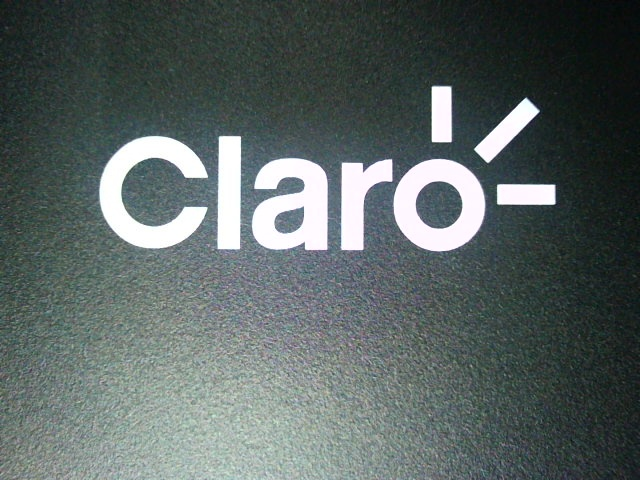BC_Claor: (87, 86, 582, 258)
